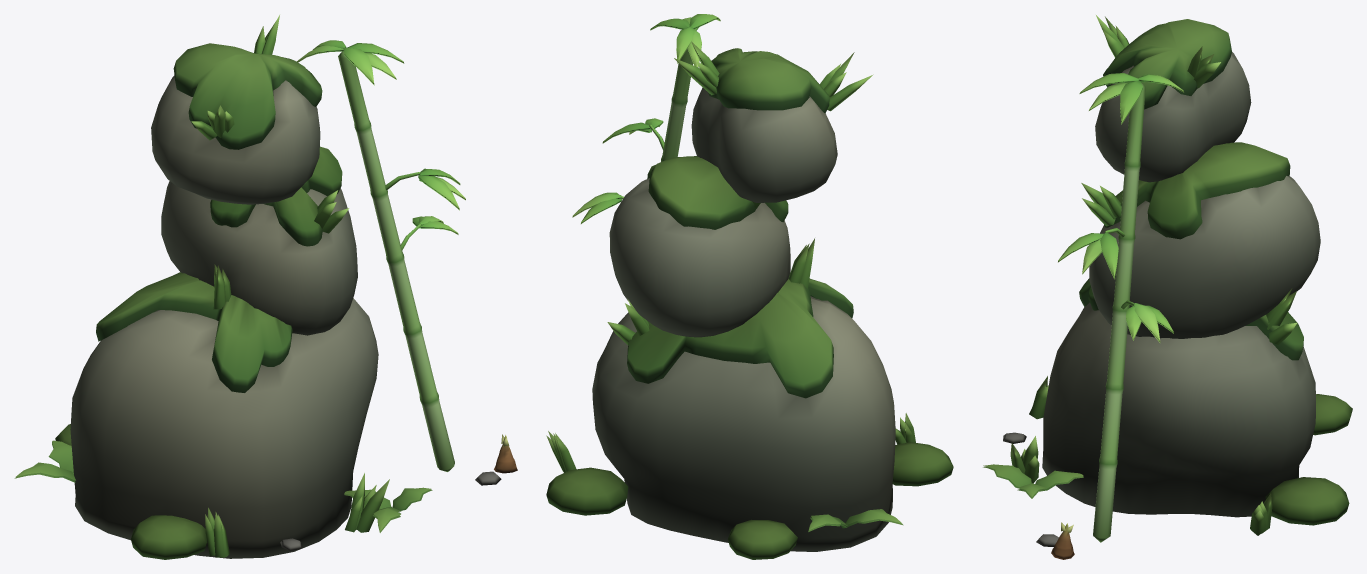
The model's file is dg-bamboo-rockPillar-v0.glb.
3 views of the same model, side by side, from view 1: azimuth 30°, elevation 25°; view 2: azimuth 150°, elevation 25°; view 3: azimuth 270°, elevation 25° (orthographic). The views are drawn at different scales.
Visible parts, largest first — view 1: stone, leaf, body; view 2: stone, leaf, body; view 3: stone, leaf, body.
Boxes of the visible parts, box(x1,y1,x2,y2) form: stone: box(55, 43, 501, 559); leaf: box(14, 15, 465, 557); body: box(338, 51, 517, 473); stone: box(546, 48, 953, 559); leaf: box(546, 14, 915, 531); body: box(621, 49, 693, 199); stone: box(1003, 19, 1352, 546); leaf: box(983, 15, 1297, 535); body: box(1051, 83, 1145, 559).
Bounding box in the file's own units: 2.6 × 2.81 × 2.08.
